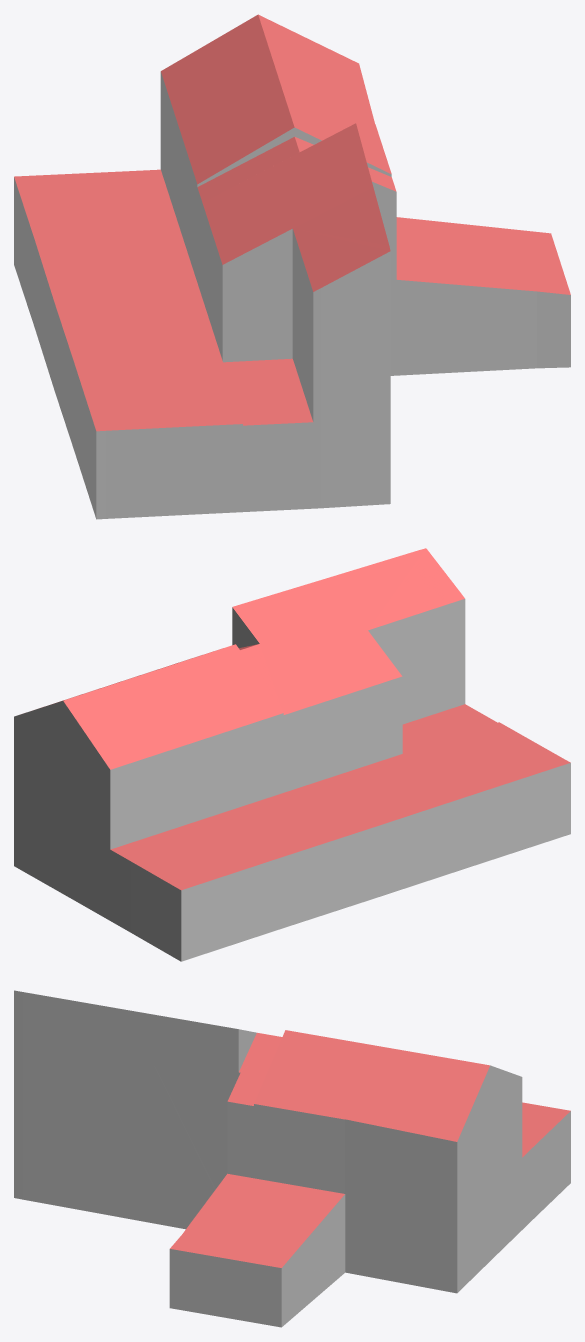
Rendered from DEBY_LOD2_4907175.gltf.
The picture shows the model from 3 angles, top to bottom: view 1: azimuth 30°, elevation 25°; view 2: azimuth 150°, elevation 25°; view 3: azimuth 270°, elevation 25°; orthographic projection. The views are drawn at different scales.
Visible parts, largest first — view 1: Z_UP; view 2: Z_UP; view 3: Z_UP.
Part boxes in pixels (left/top/right/bottom): Z_UP: left=14, top=14, right=570, bottom=519; Z_UP: left=14, top=548, right=570, bottom=961; Z_UP: left=14, top=990, right=570, bottom=1327.
Size of the model in its own units: 27.93 by 12.18 by 29.32.
